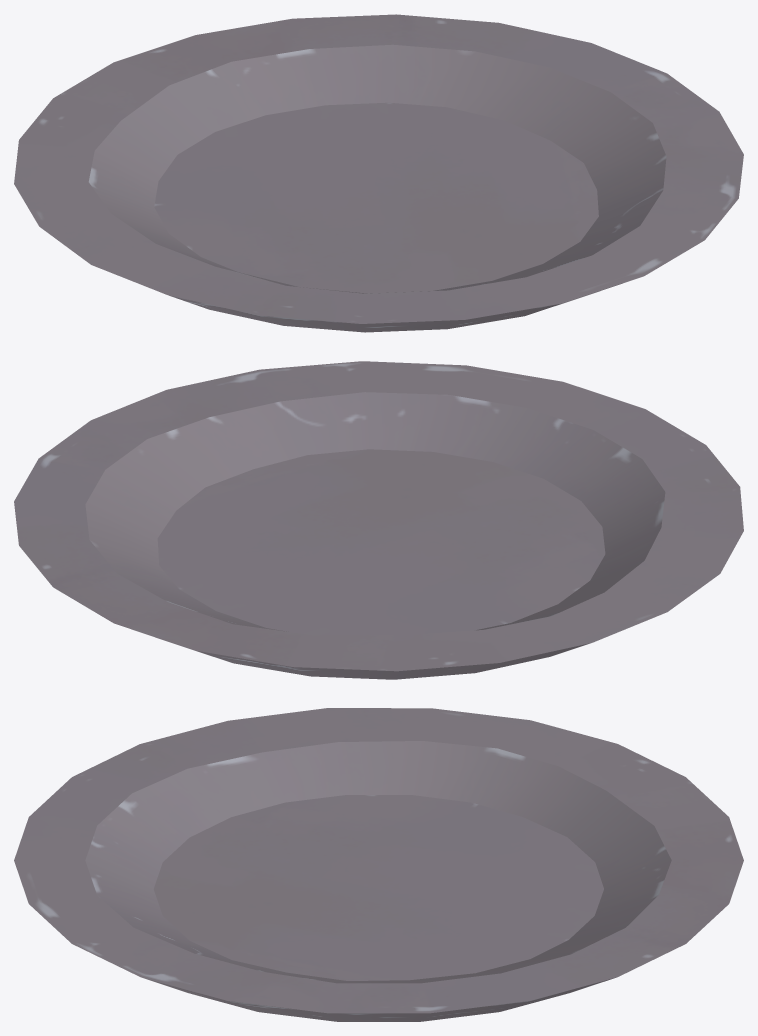
The model's file is Table_Plate.gltf.
The picture shows the model from 3 angles, top to bottom: view 1: azimuth 30°, elevation 25°; view 2: azimuth 150°, elevation 25°; view 3: azimuth 270°, elevation 25°; orthographic projection.
Visible parts, largest first — view 1: Table_Plate; view 2: Table_Plate; view 3: Table_Plate.
Boxes of the visible parts, <box> form: Table_Plate: <box>14,14,743,332</box>; Table_Plate: <box>14,361,743,679</box>; Table_Plate: <box>14,708,743,1021</box>.
Size of the model in its own units: 0.3333 by 0.0202 by 0.3369.
Materials: 1 (1 with a texture image).
